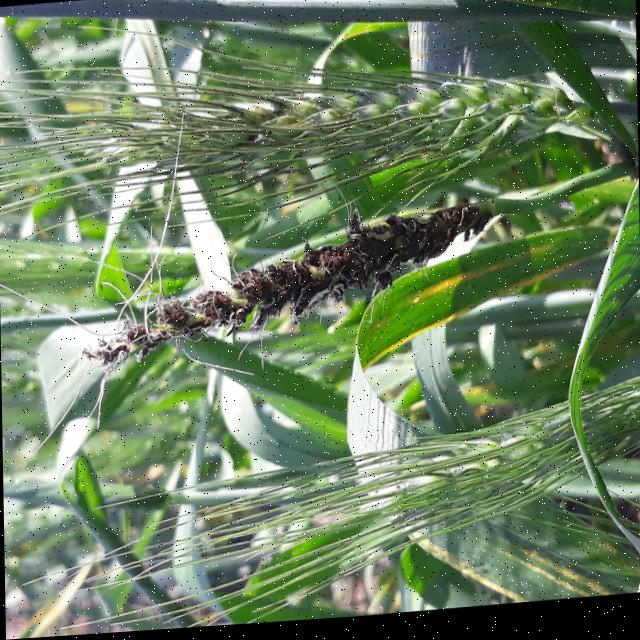loose_charred: (93, 170, 519, 408), (19, 34, 474, 253)
yellow_rust: (362, 233, 604, 388), (427, 486, 640, 616)
